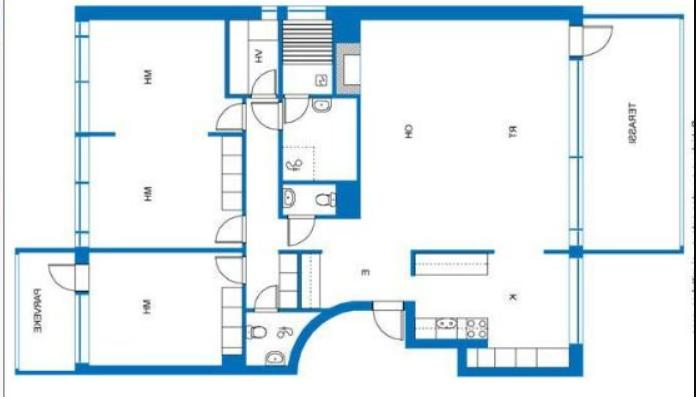bathroom: (245, 312, 296, 368), (282, 180, 335, 217)
door: (566, 22, 616, 60), (46, 260, 92, 296), (369, 299, 405, 342), (284, 212, 318, 250), (213, 211, 249, 245), (212, 254, 249, 286), (214, 99, 247, 132), (247, 69, 281, 101), (249, 100, 284, 130), (250, 283, 281, 316), (282, 91, 309, 127)
perimeter: (73, 3, 585, 382)
window: (567, 253, 587, 350), (567, 56, 586, 158), (72, 290, 91, 368), (567, 154, 586, 232), (71, 81, 93, 136), (72, 181, 92, 235), (73, 132, 93, 185), (73, 34, 94, 84), (283, 3, 332, 22), (71, 16, 93, 39), (566, 227, 587, 251), (72, 230, 93, 250), (258, 3, 281, 21)
